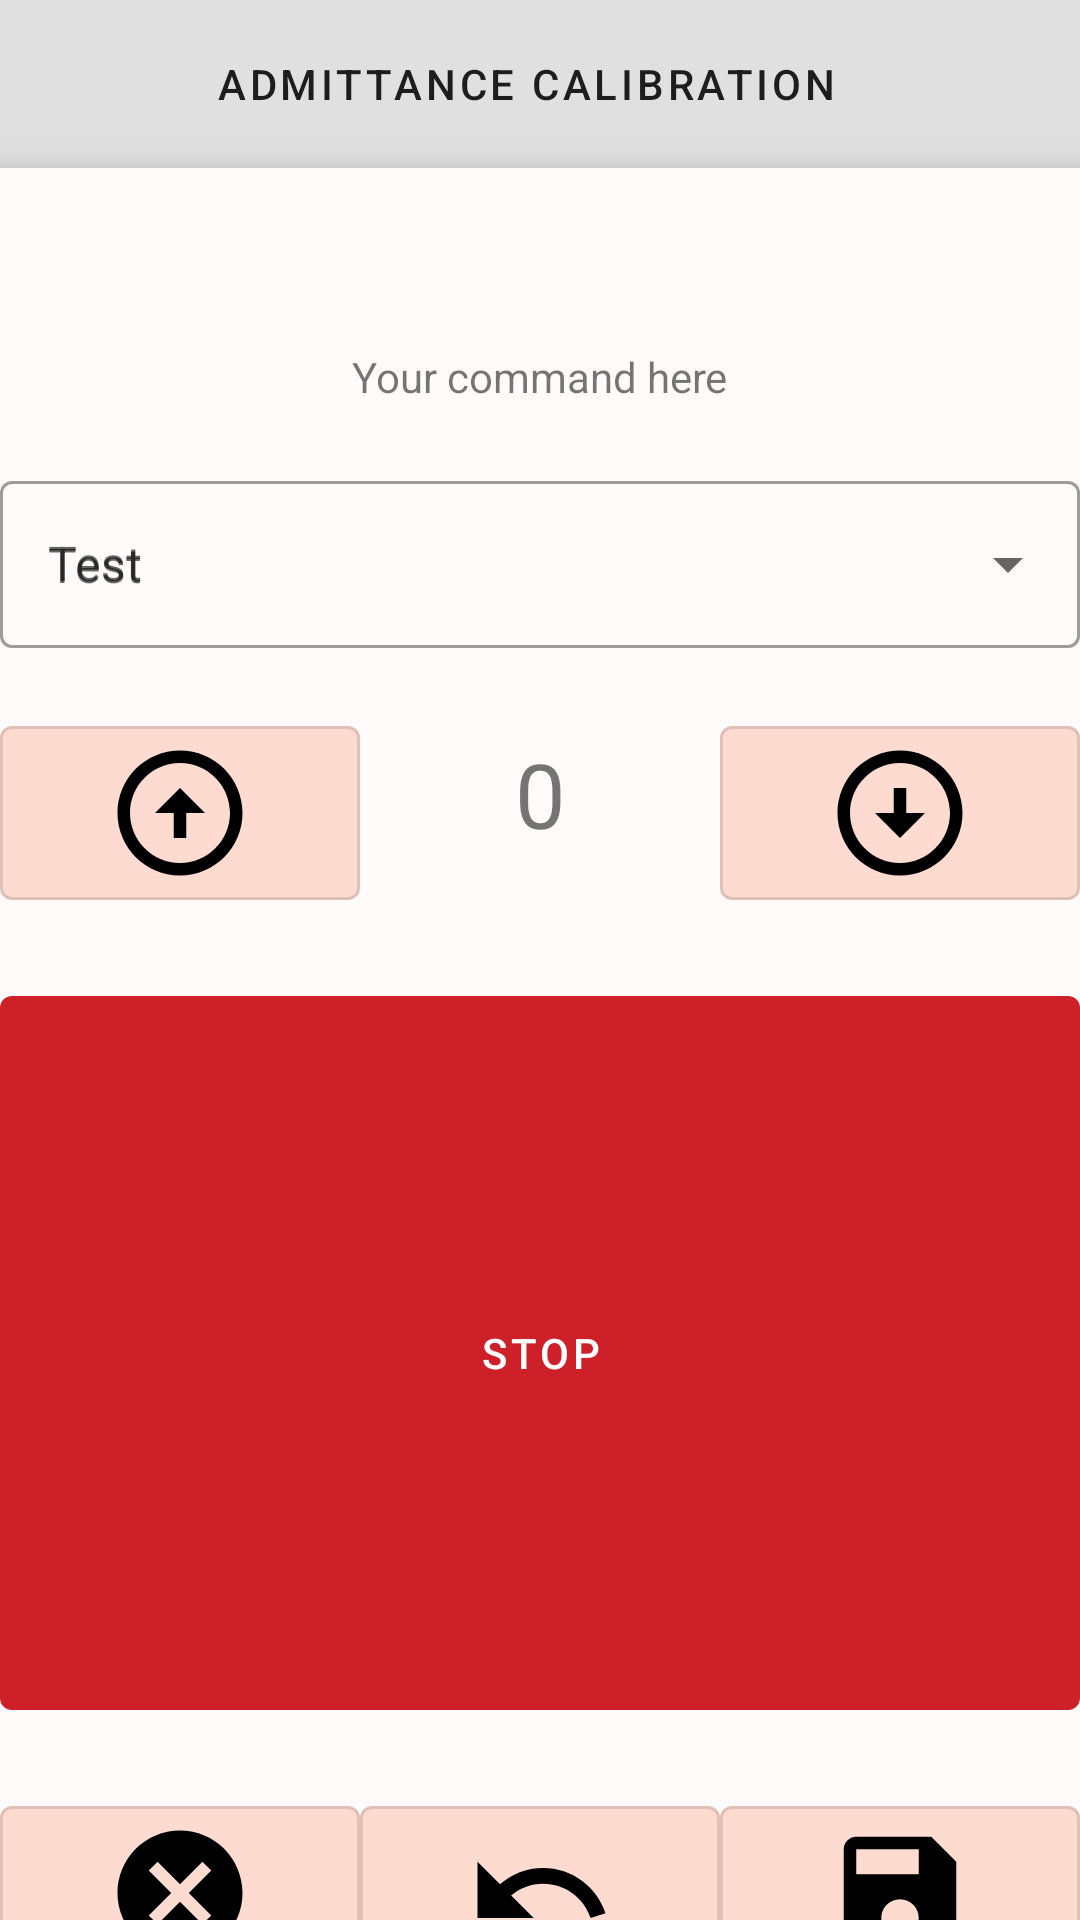

Icons on this 1080*1920 Android screen, each with the point to tap as (x,y):
arrow circle down: (900,813)
arrow circle up: (180,813)
